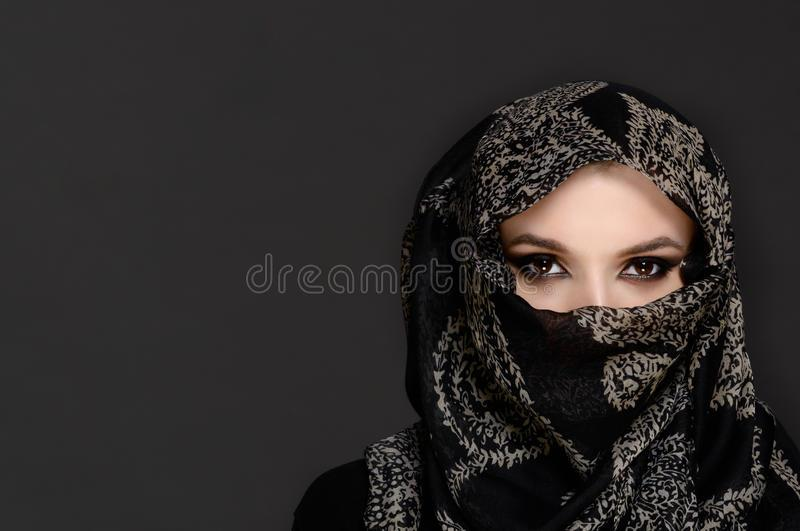No Mask: (480, 148, 767, 451)
